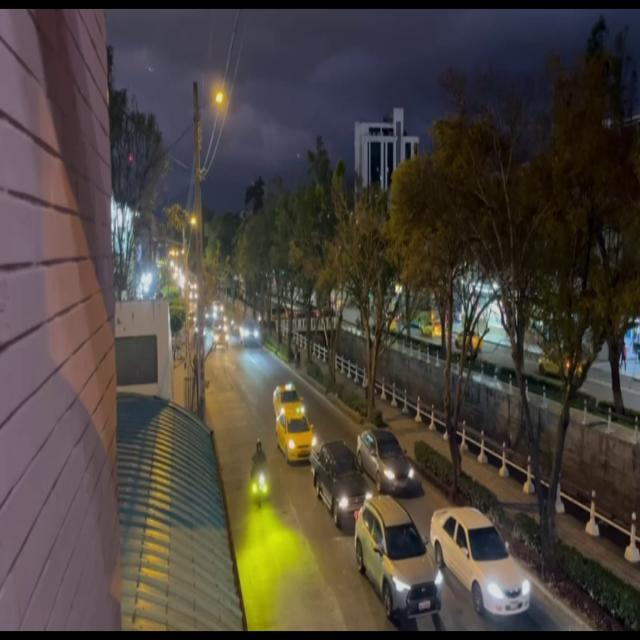CMT: (313, 441, 365, 519)
MOTORCYCLE: (247, 461, 273, 513)
SED: (436, 513, 530, 621), (355, 426, 416, 496), (278, 411, 313, 463), (272, 383, 303, 423)
SUV: (355, 504, 434, 616)
